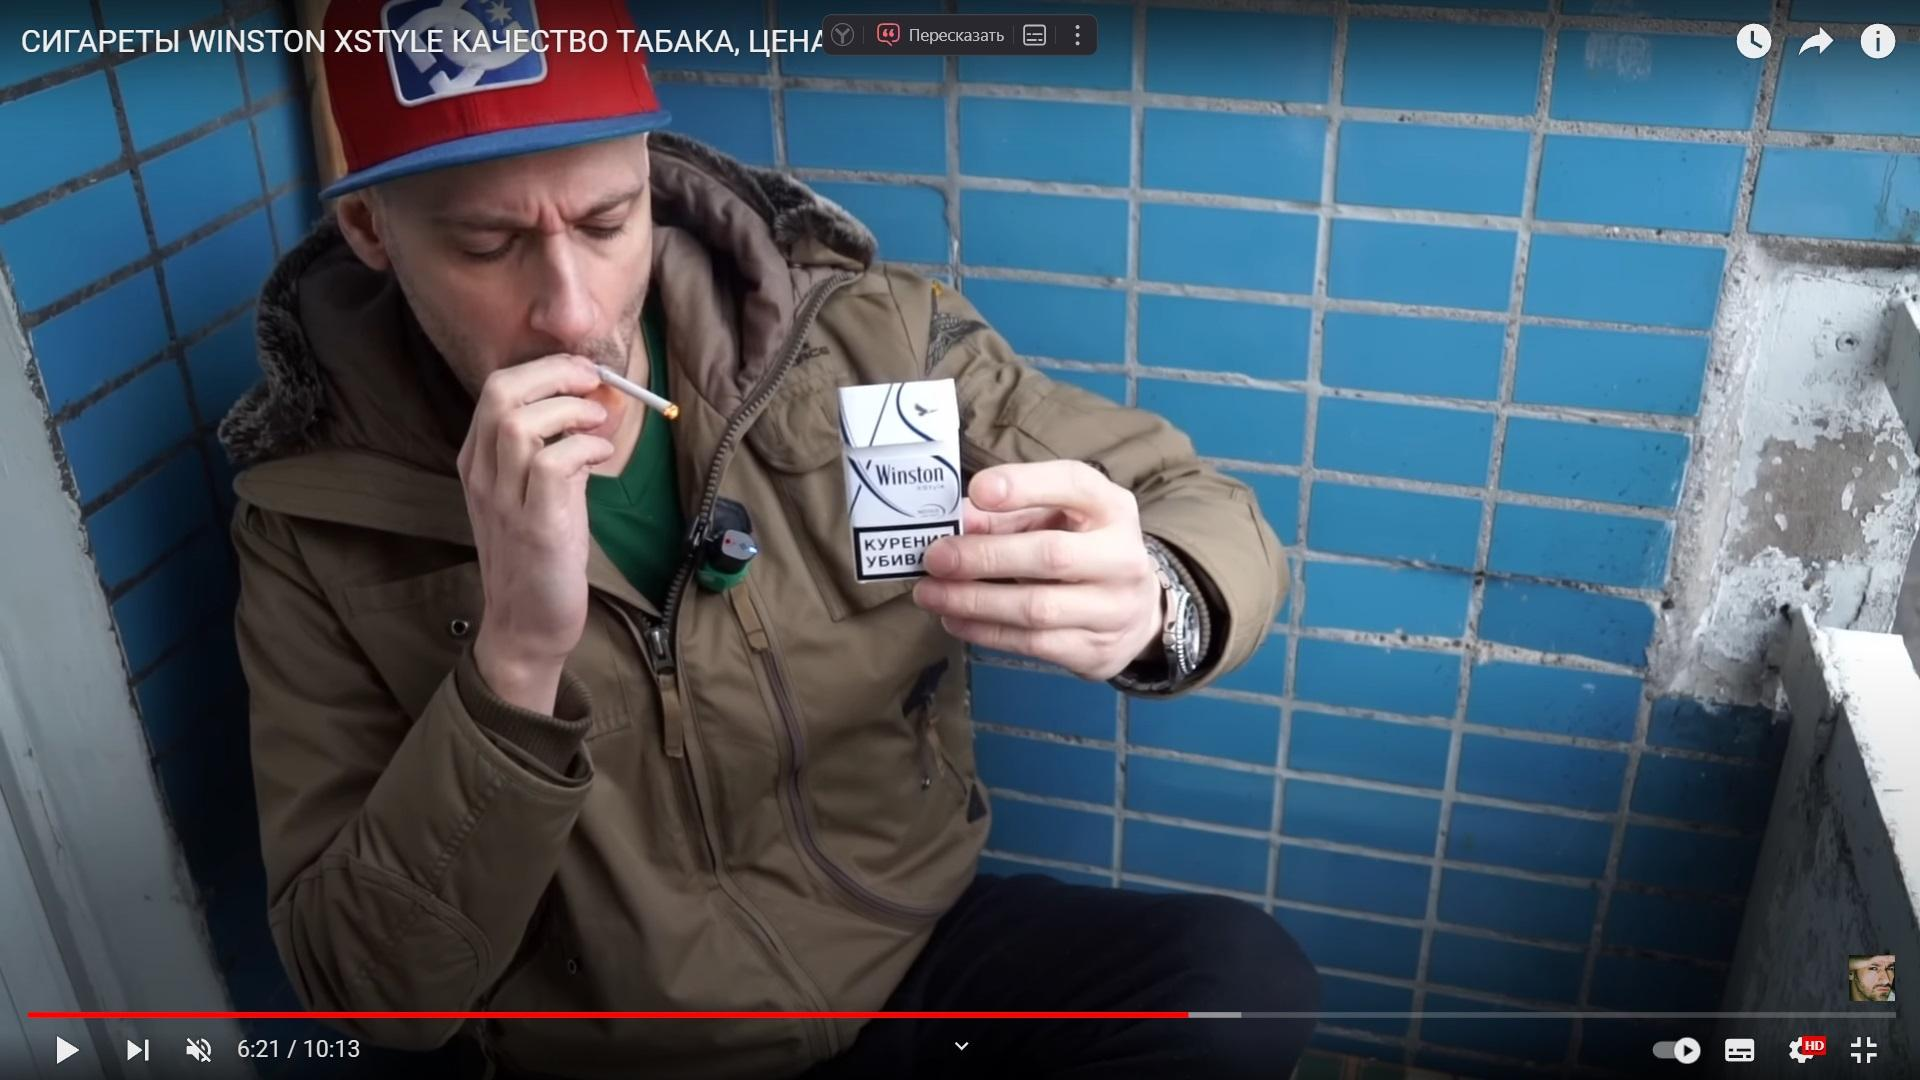cigarette: (595, 363, 679, 419)
